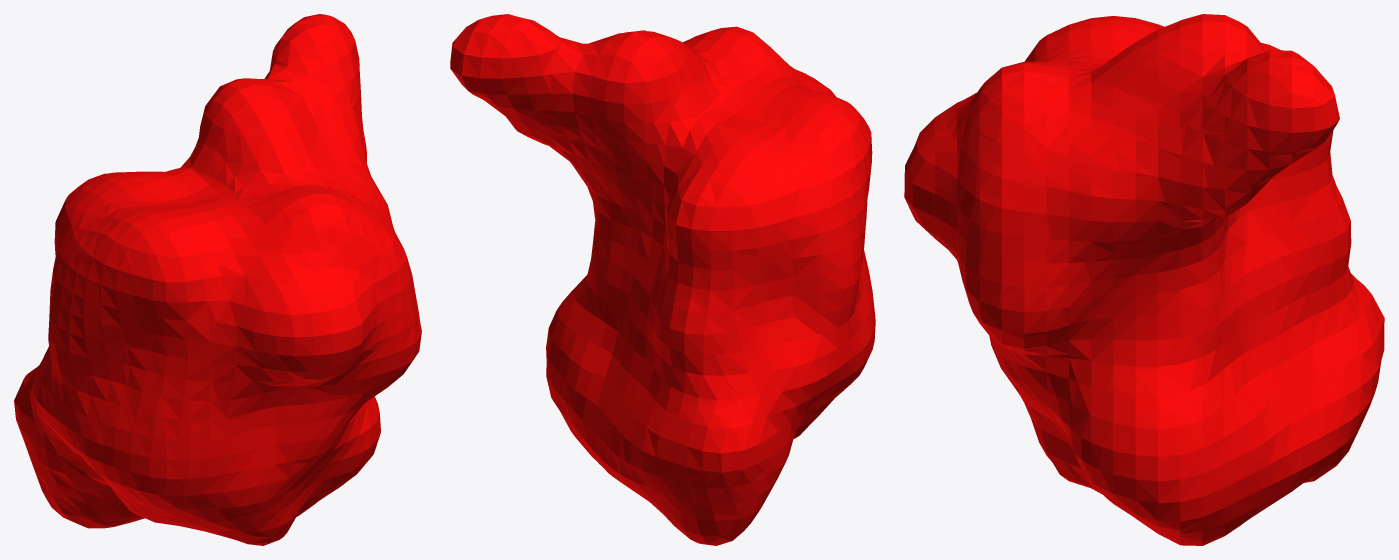
File: ribE_coarse.dae
3 views of the same model, side by side, from view 1: azimuth 30°, elevation 25°; view 2: azimuth 150°, elevation 25°; view 3: azimuth 270°, elevation 25° (orthographic). The views are drawn at different scales.
Parts seen in each view (by area): view 1: ribE; view 2: ribE; view 3: ribE.
Part boxes in pixels (x1,y1,x2,y2): ribE: (14, 14, 421, 545); ribE: (450, 14, 875, 545); ribE: (904, 14, 1384, 545).
Bounding box in the file's own units: 39.47 × 50.41 × 40.39.
